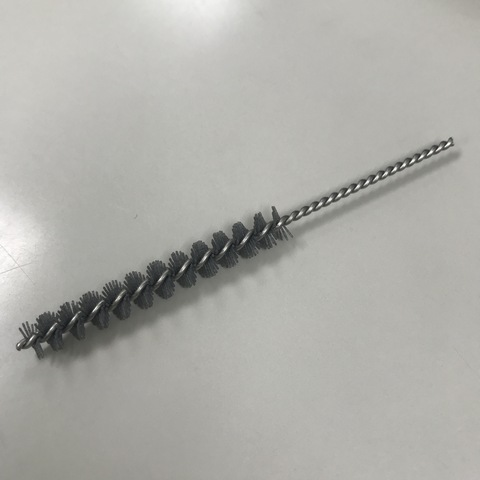Twist Brush-A: (11, 133, 454, 362)
